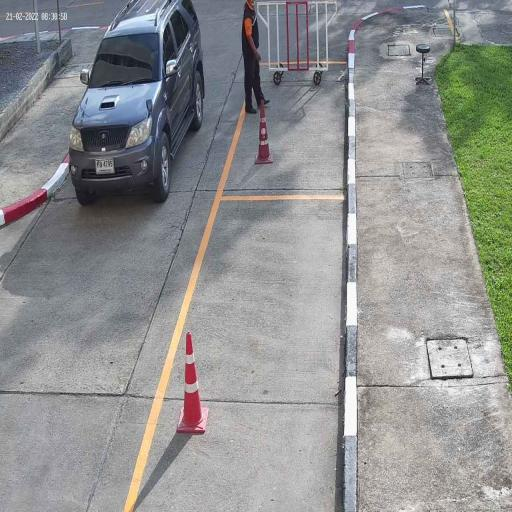car: (67, 0, 206, 206)
